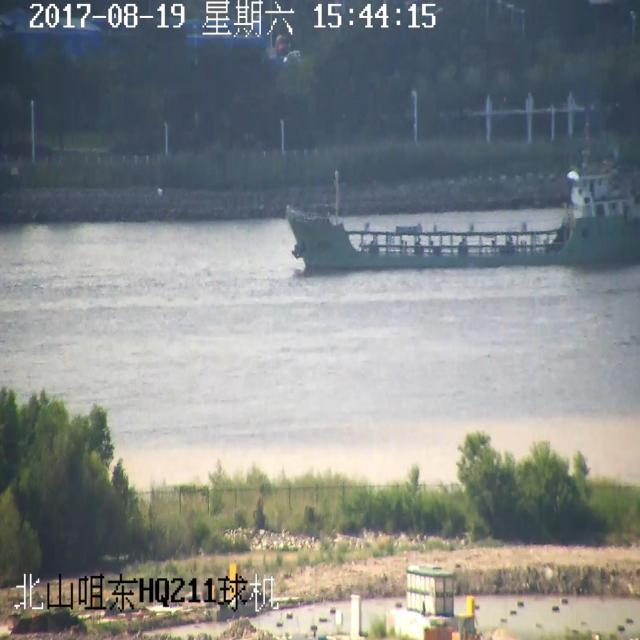houseboat: (274, 147, 640, 275)
